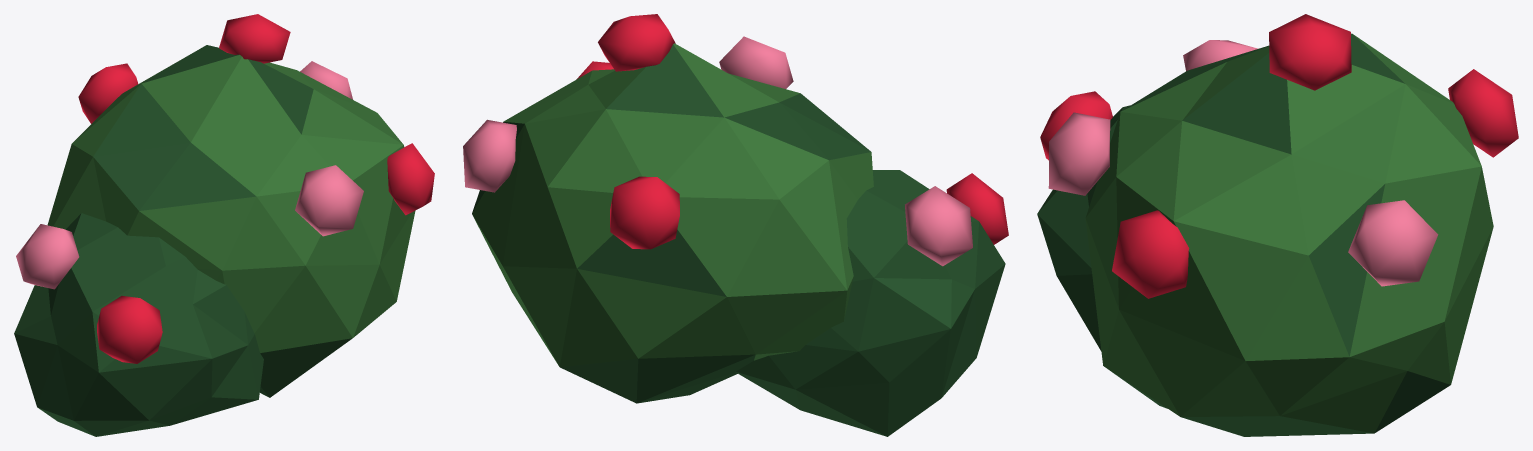
File: rose_bush.glb
3 renders of one model, left to right at view 1: azimuth 30°, elevation 25°; view 2: azimuth 150°, elevation 25°; view 3: azimuth 270°, elevation 25°, orthographic. The views are drawn at different scales.
Parts seen in each view (by area): view 1: rose_bush; view 2: rose_bush; view 3: rose_bush.
Boxes of the visible parts, <box> form: rose_bush: <box>14,14,434,436</box>; rose_bush: <box>463,14,1008,436</box>; rose_bush: <box>1037,14,1518,436</box>.
Size of the model in its own units: 0.8181 by 0.6607 by 0.6705.
